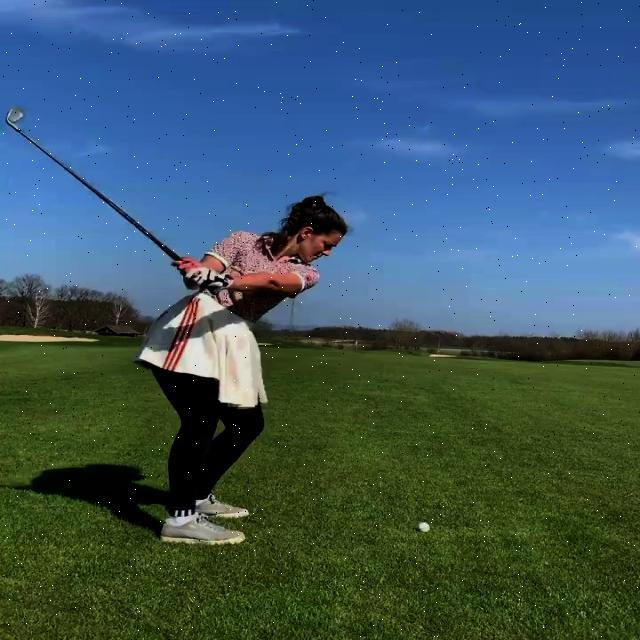golf ball: (419, 522, 430, 532)
golf club-handle: (6, 105, 220, 295)
golf club-head: (6, 105, 24, 123)
